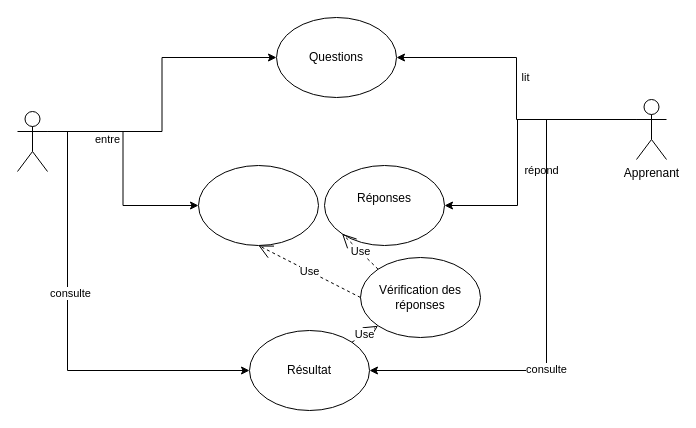
This 696x428 diagram has some shape labels left out. Each missing label, with the centre of its shape:
"Prof" goes at pixel 32 141.
"Réponses justes" goes at pixel 258 205.
